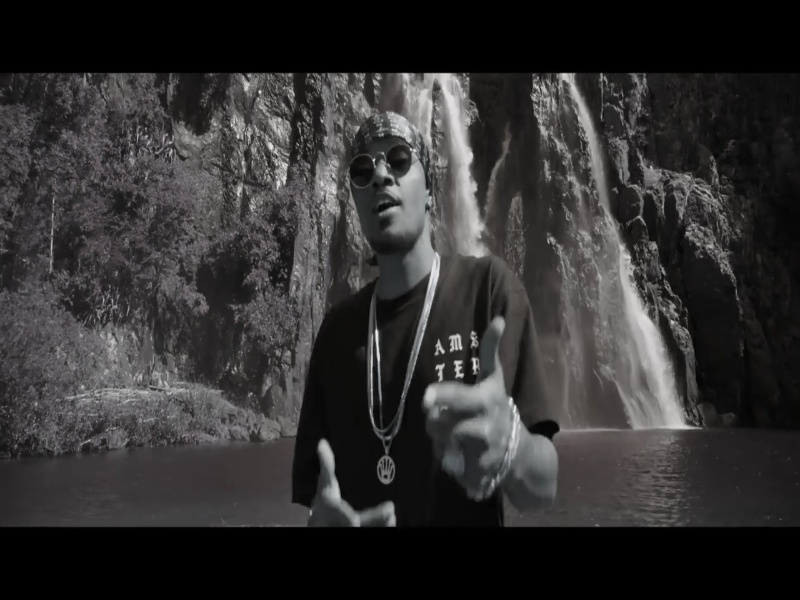TsisyArotava: (332, 117, 445, 262)
